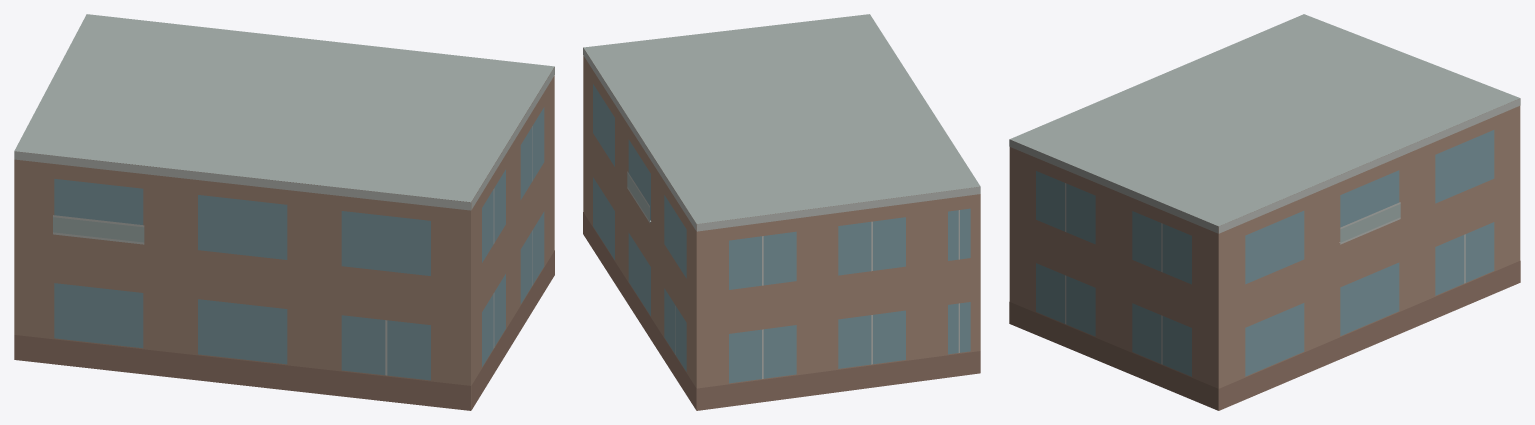
The model's file is survey-upis-32779302.glb.
3 views of the same model, side by side, from view 1: azimuth 30°, elevation 25°; view 2: azimuth 150°, elevation 25°; view 3: azimuth 270°, elevation 25° (orthographic). The views are drawn at different scales.
Visible parts, largest first — view 1: survey-upis-32779302.tmp; view 2: survey-upis-32779302.tmp; view 3: survey-upis-32779302.tmp.
Boxes of the visible parts, <box> form: survey-upis-32779302.tmp: <box>14,14,554,410</box>; survey-upis-32779302.tmp: <box>583,14,980,410</box>; survey-upis-32779302.tmp: <box>1009,14,1520,410</box>.
Bounding box in the file's own units: 15.07 × 6.1 × 15.32.
